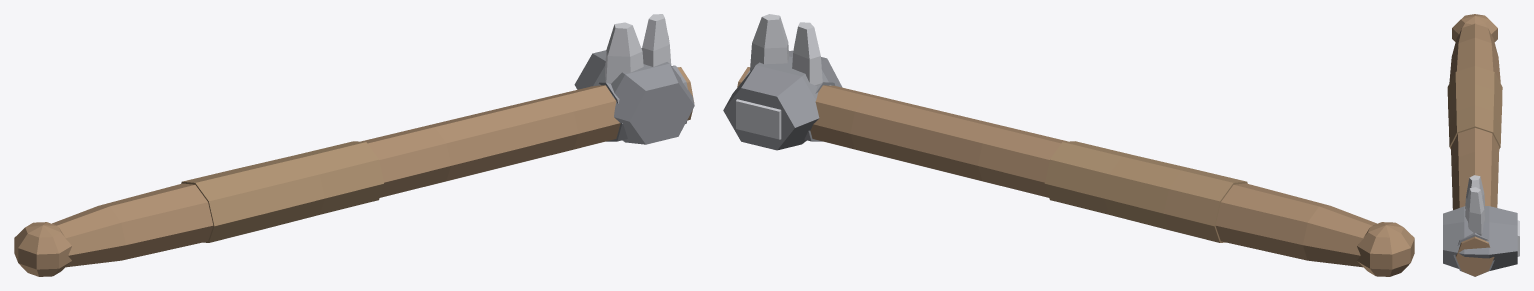
Rendered from 16-Crafting_martillo.glb.
The picture shows the model from 3 angles, left to right: view 1: azimuth 30°, elevation 25°; view 2: azimuth 150°, elevation 25°; view 3: azimuth 270°, elevation 25°; orthographic projection. The views are drawn at different scales.
Visible parts, largest first — view 1: SM_Martillo_M_Martillo_Madera, SM_Martillo_M_Martillo_Cuero, SM_Martillo_M_Martillo_Hierro, SM_Martillo_M_Martillo_Acero; view 2: SM_Martillo_M_Martillo_Madera, SM_Martillo_M_Martillo_Cuero, SM_Martillo_M_Martillo_Hierro, SM_Martillo_M_Martillo_Acero; view 3: SM_Martillo_M_Martillo_Madera, SM_Martillo_M_Martillo_Cuero, SM_Martillo_M_Martillo_Hierro, SM_Martillo_M_Martillo_Acero.
Boxes of the visible parts, x1,y1,x2,y2 form: SM_Martillo_M_Martillo_Madera: (14,67,694,276); SM_Martillo_M_Martillo_Cuero: (181,141,383,242); SM_Martillo_M_Martillo_Hierro: (574,48,694,144); SM_Martillo_M_Martillo_Acero: (605,14,671,83); SM_Martillo_M_Martillo_Madera: (737,67,1414,276); SM_Martillo_M_Martillo_Cuero: (1044,141,1247,242); SM_Martillo_M_Martillo_Hierro: (723,50,842,150); SM_Martillo_M_Martillo_Acero: (736,14,822,139); SM_Martillo_M_Martillo_Madera: (1449,14,1500,276); SM_Martillo_M_Martillo_Cuero: (1447,66,1502,149); SM_Martillo_M_Martillo_Hierro: (1443,206,1517,276); SM_Martillo_M_Martillo_Acero: (1465,175,1519,256).
Size of the model in its own units: 0.7811 by 0.125 by 0.108.
